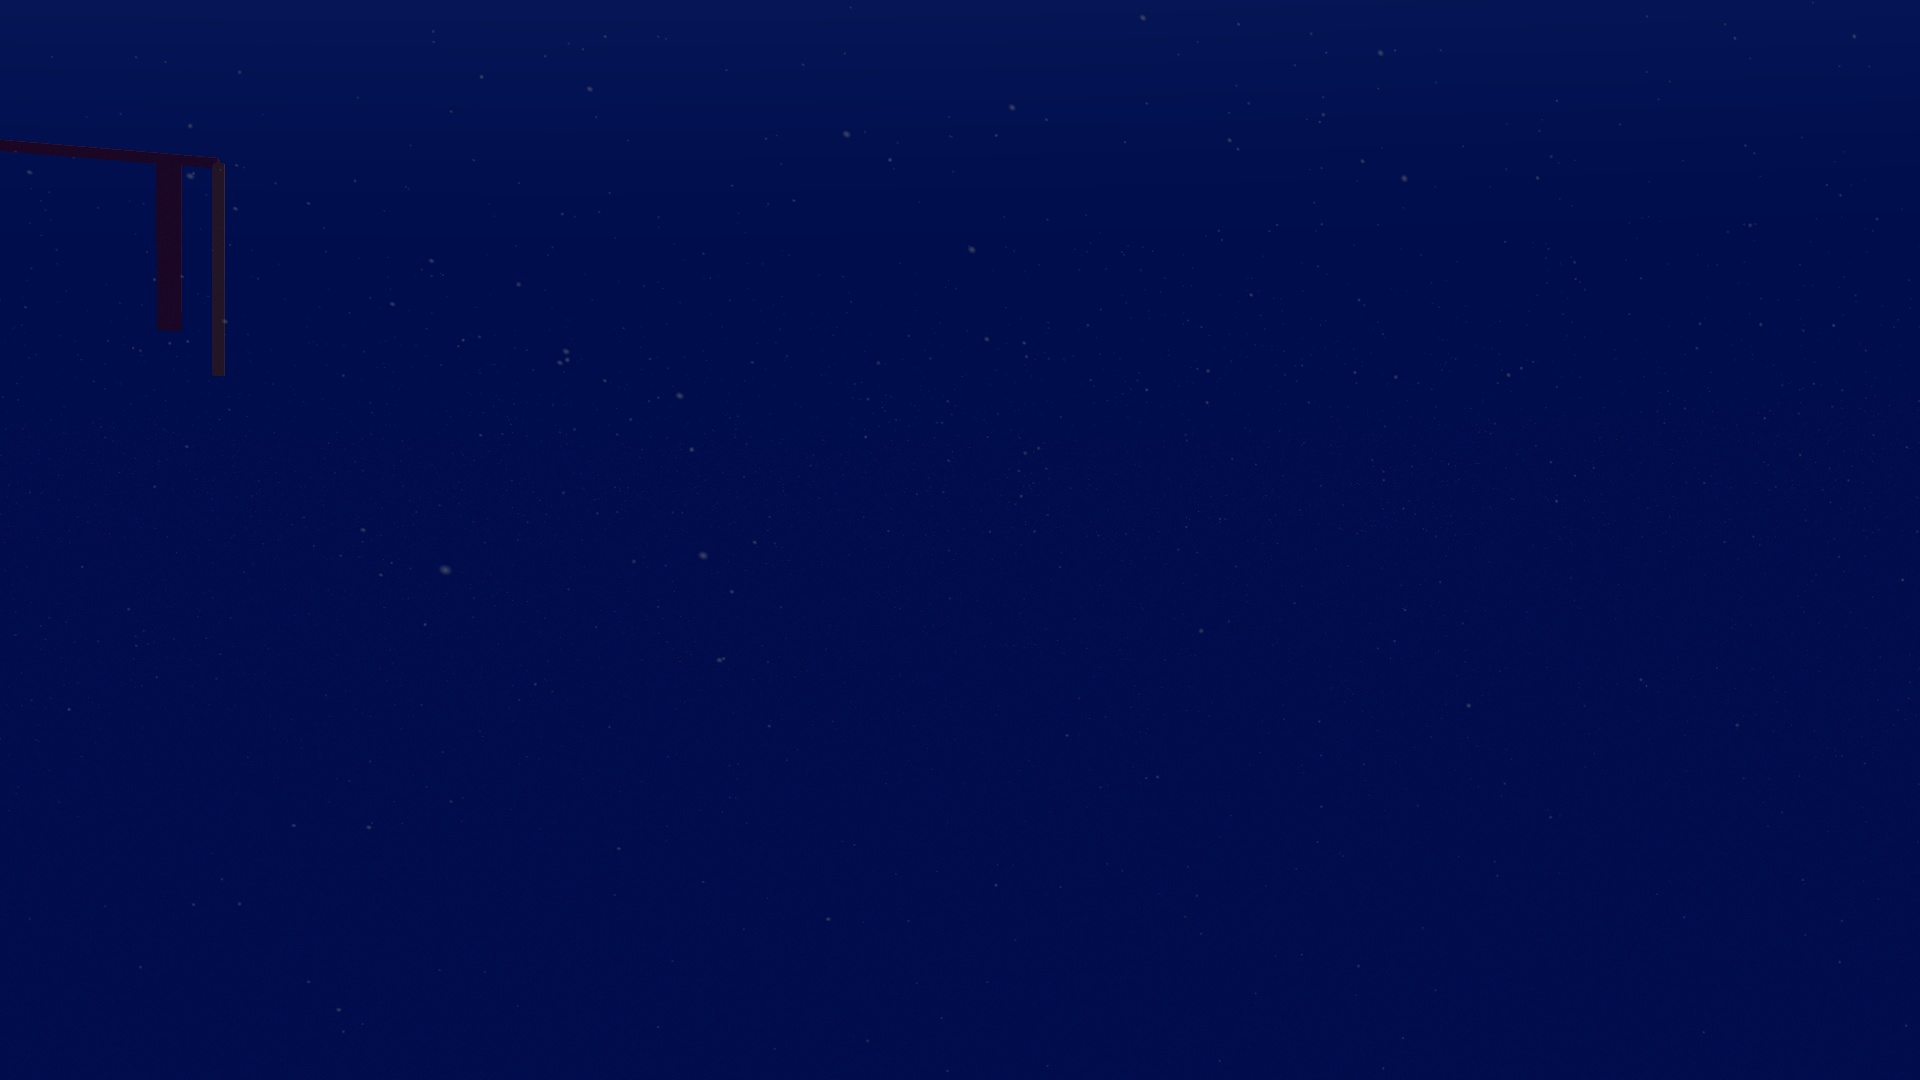Gate: (1, 135, 235, 385)
